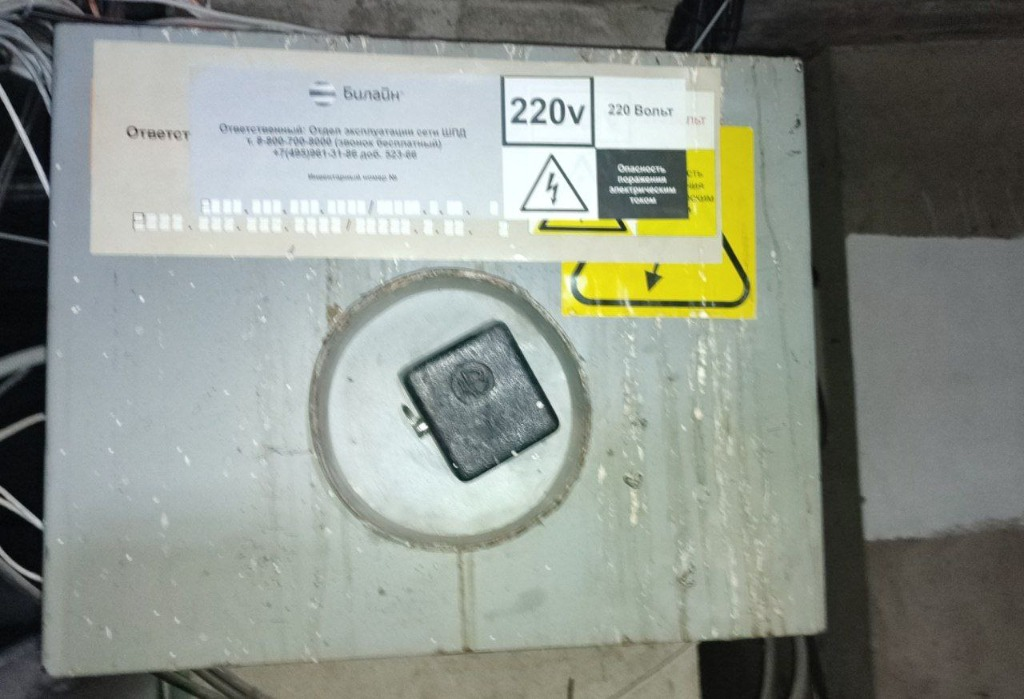shta-3: (36, 15, 823, 675)
